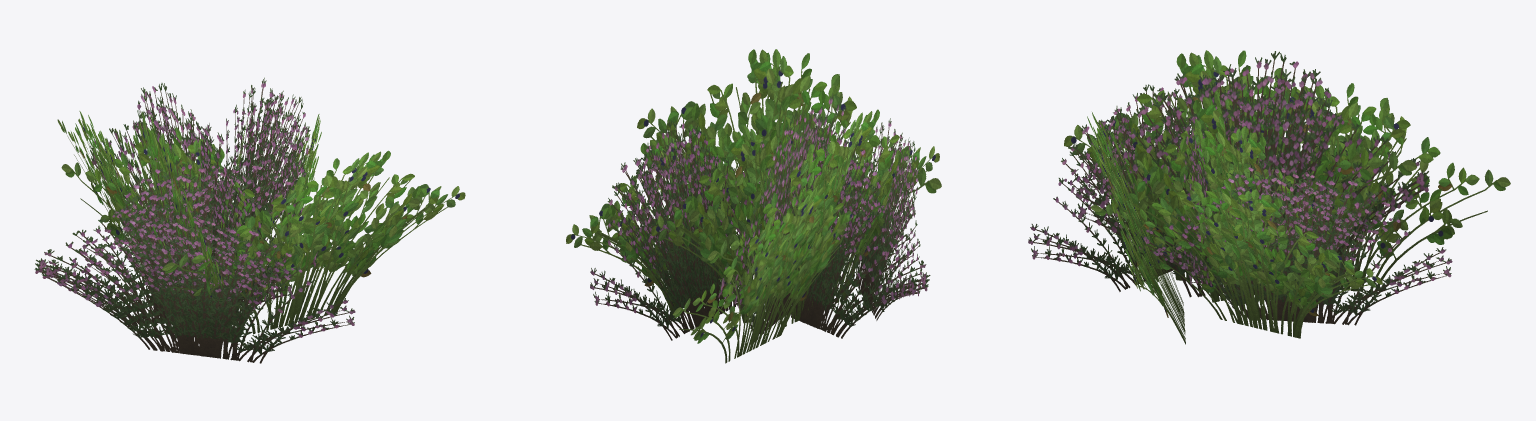
File: heather.glb
3 views of the same model, side by side, from view 1: azimuth 30°, elevation 25°; view 2: azimuth 150°, elevation 25°; view 3: azimuth 270°, elevation 25° (orthographic). The views are drawn at different scales.
Parts seen in each view (by area): view 1: heather; view 2: heather; view 3: heather.
Part boxes in pixels (x1,y1,x2,y2): heather: [34, 77, 465, 363]; heather: [566, 49, 941, 363]; heather: [1028, 50, 1510, 344].
Bounding box in the file's own units: 0.6068 × 0.3399 × 0.6723.
Materials: 1 (1 with a texture image).
